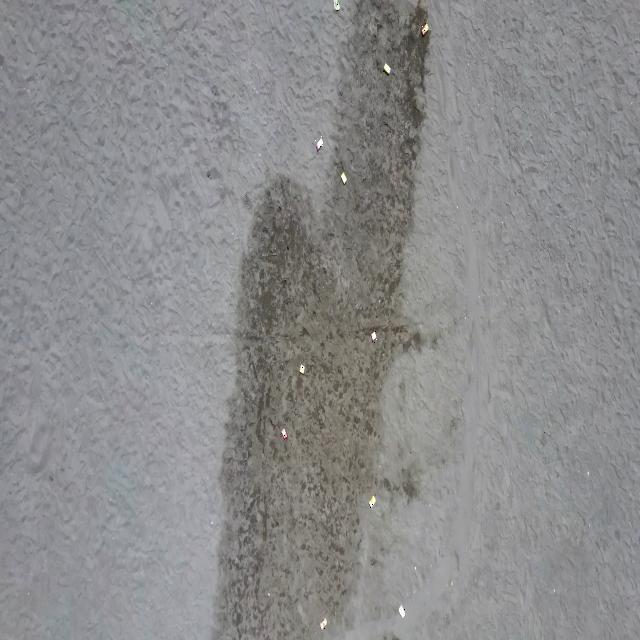retort-pouch: (420, 21, 430, 37), (382, 61, 392, 76), (315, 136, 324, 152), (368, 493, 376, 510), (398, 603, 406, 619), (281, 426, 288, 442), (340, 172, 348, 186), (320, 616, 327, 631), (333, 0, 341, 11), (299, 362, 305, 376), (371, 330, 377, 344)
